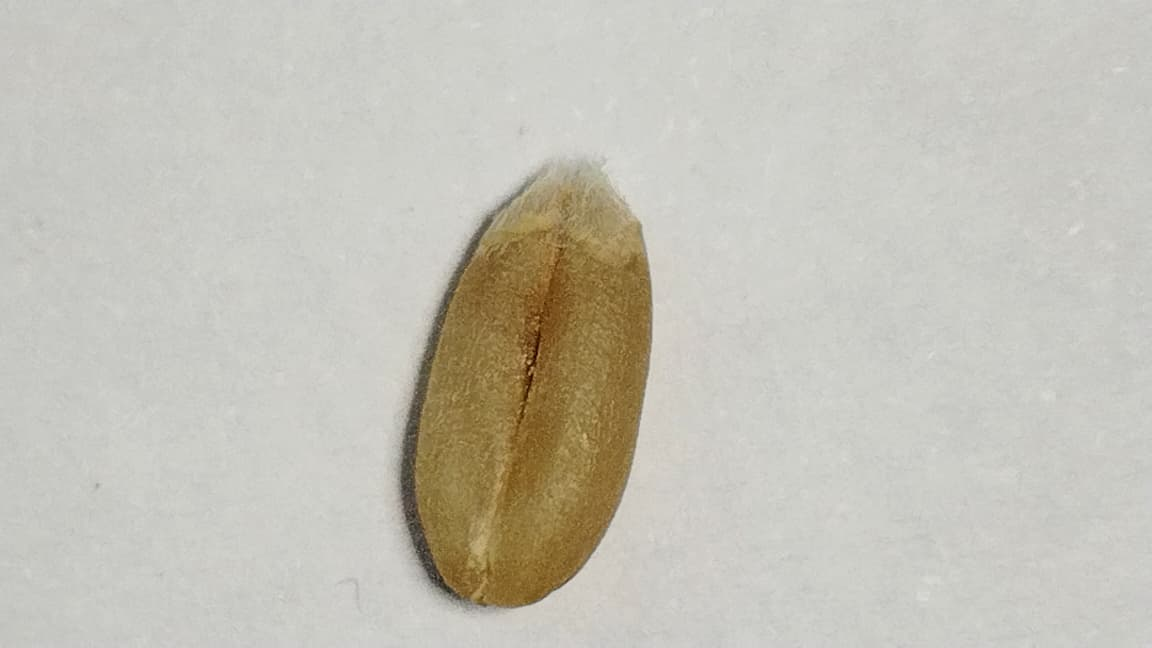healthy: (405, 166, 649, 604)
